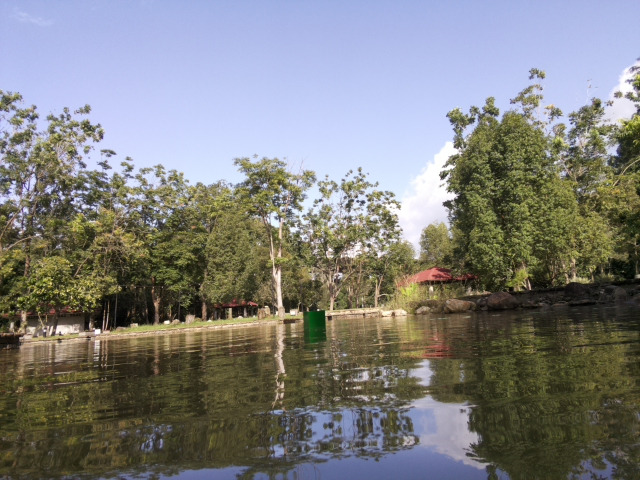obstacle: (23, 195, 175, 449)
